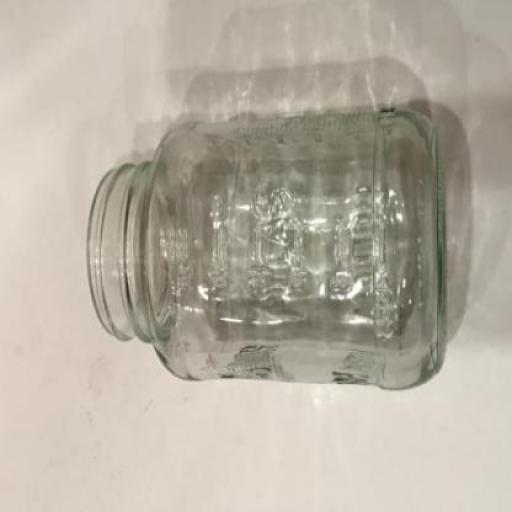glass: (86, 108, 442, 393)
